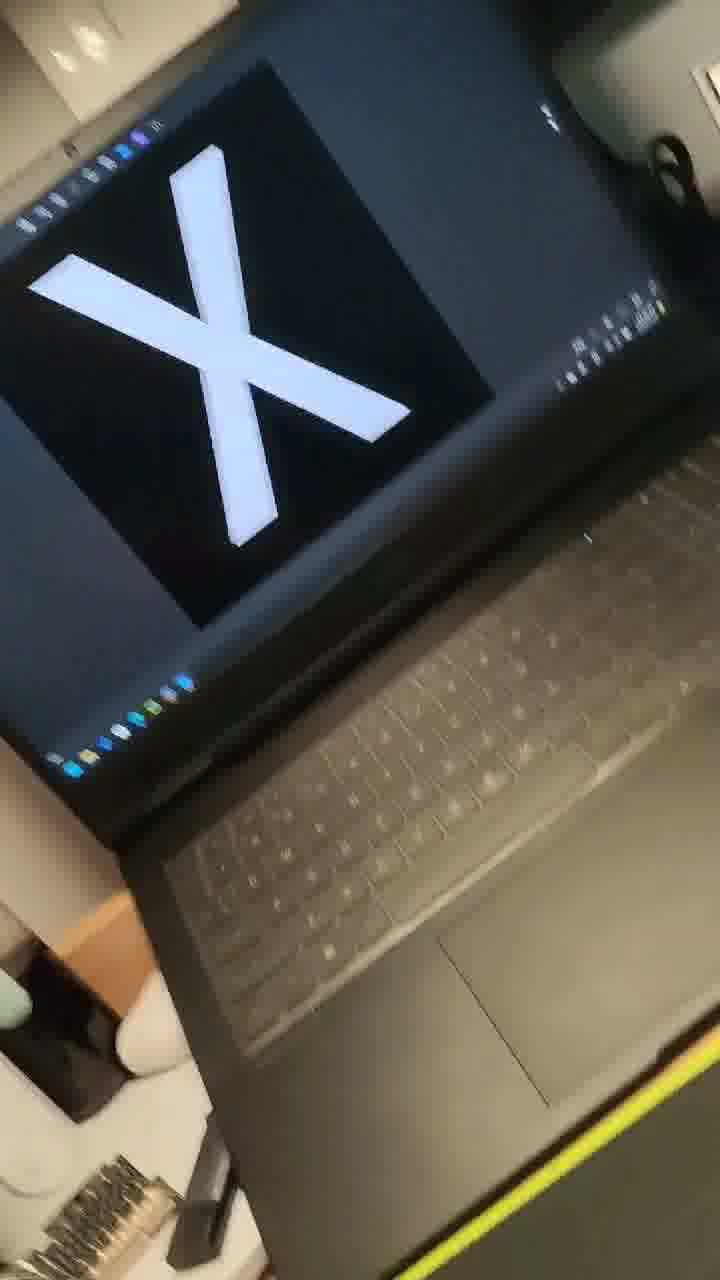X: (1, 44, 439, 538)
